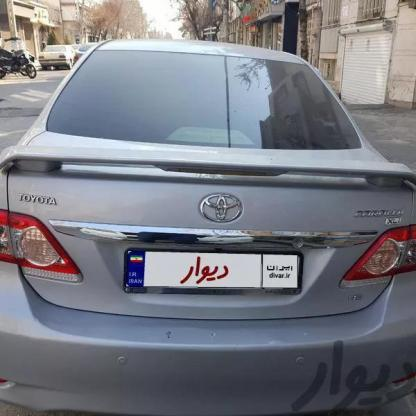Car: (0, 36, 416, 416), (31, 39, 81, 68)
